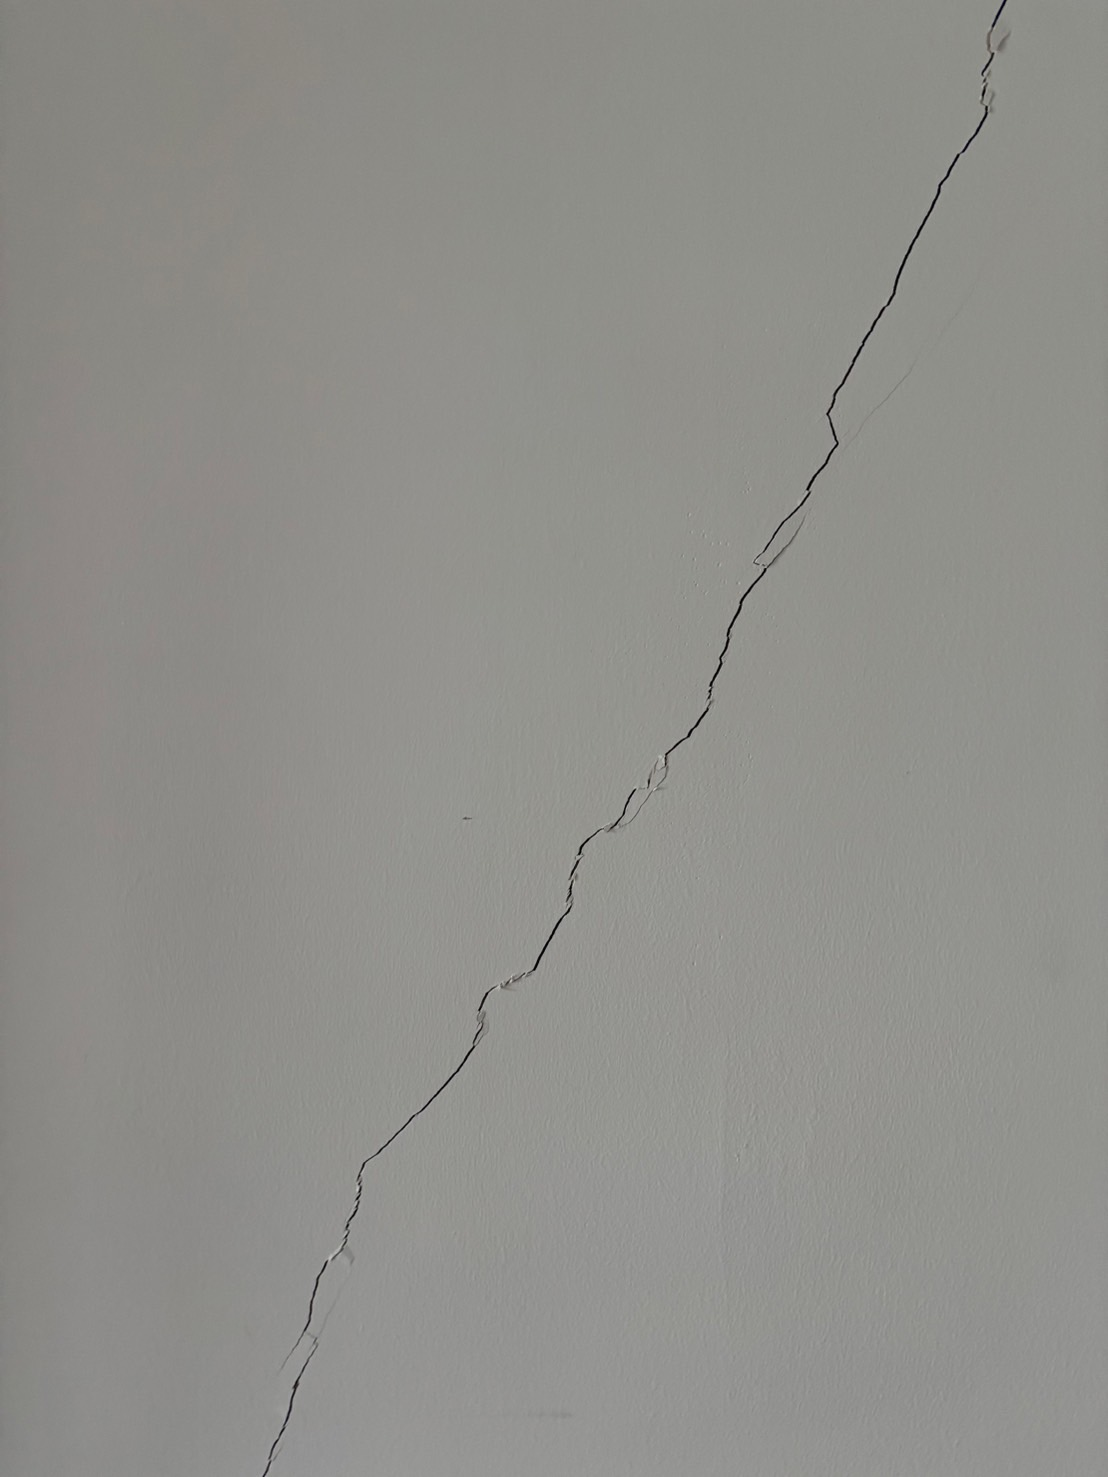Low: (228, 1, 1100, 1474)
